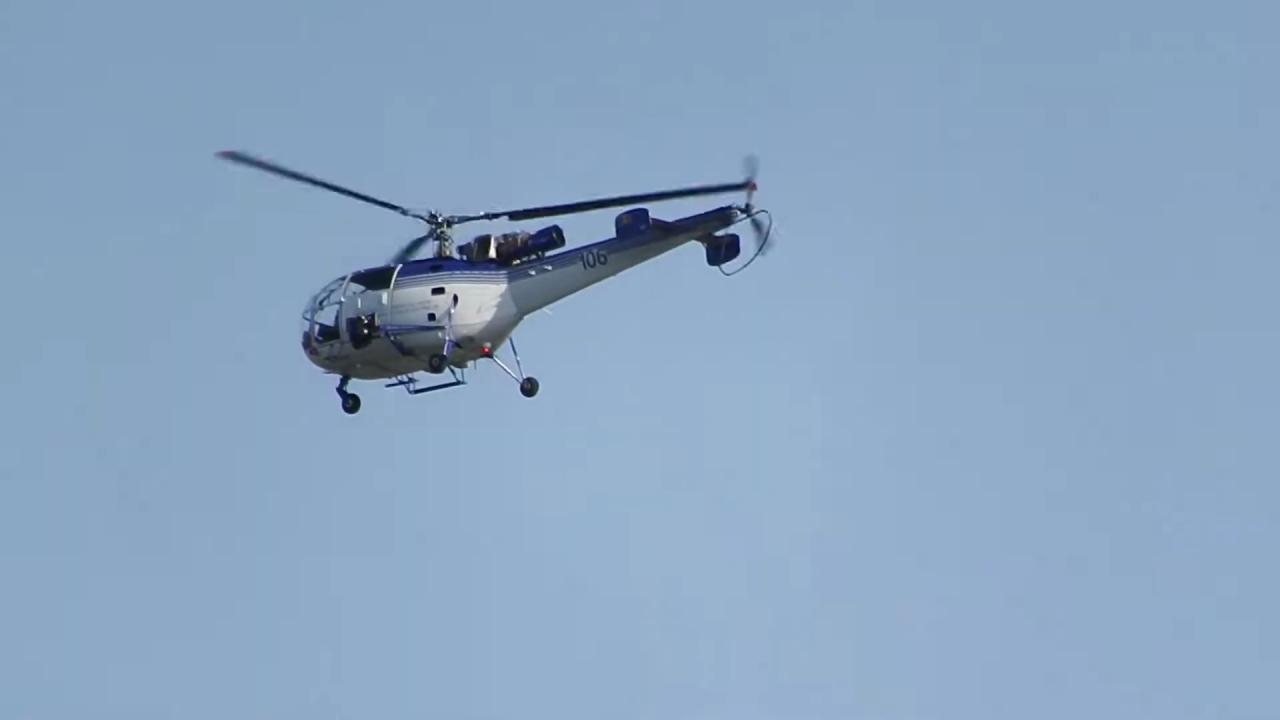Helicopter: (182, 94, 821, 449)
